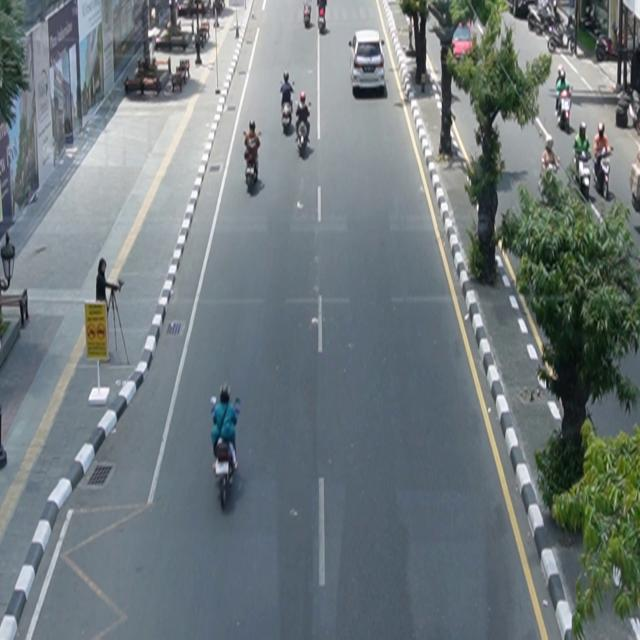car: (350, 30, 387, 93), (452, 24, 476, 62)
